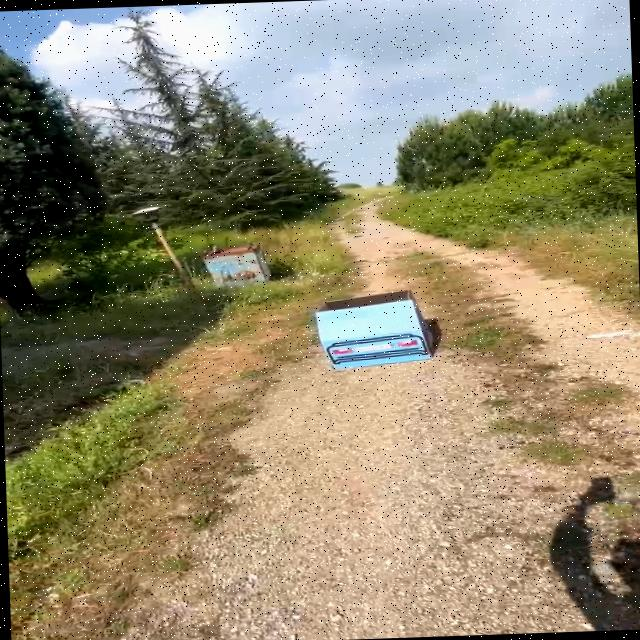blue_car: (298, 278, 458, 381)
